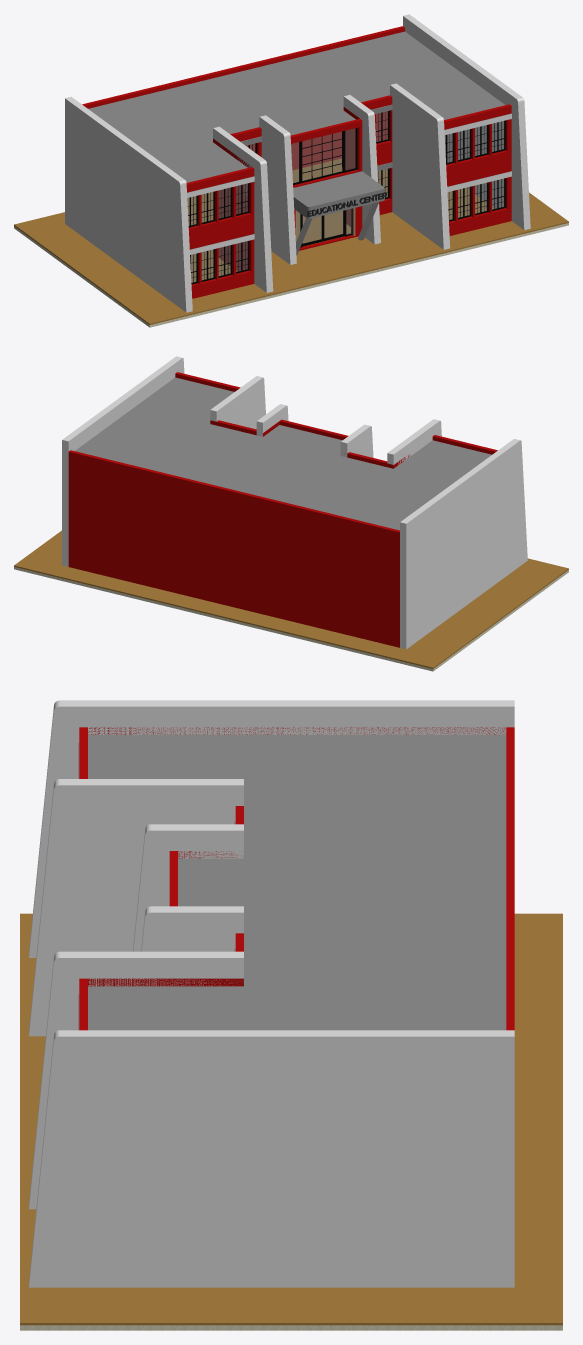
Rendered from school.fbx.
3 views of the same model, one above another, from view 1: azimuth 30°, elevation 25°; view 2: azimuth 150°, elevation 25°; view 3: azimuth 270°, elevation 25° (orthographic). The views are drawn at different scales.
Visible parts, largest first — view 1: МРФ-002 (×6), МРФ-001, ПЕР-001, СТН-002 (×6), СТН-008 (×2), ОК-001 (×7), МРФ-003, ОК-002 (×6), ОК-003 (×2), СТН-003 (×3), МРФ-004 (×4), ДВ-001 (+2 smaller); view 2: СТН-008 (×2), МРФ-001, МРФ-002 (×6), ПЕР-001, СТН-002 (×3); view 3: МРФ-002 (×6), МРФ-001, ПЕР-001, СТН-008, СТН-003, СТН-001.
Part boxes in pixels (box(x1,y1,x2,y2)): МРФ-002 (×6): box(65, 14, 530, 312); МРФ-001: box(88, 31, 505, 182); ПЕР-001: box(14, 158, 568, 327); СТН-002 (×6): box(186, 104, 511, 298); СТН-008 (×2): box(82, 26, 404, 169); ОК-001 (×7): box(201, 110, 389, 281); МРФ-003: box(293, 171, 384, 218); ОК-002 (×6): box(458, 120, 505, 219); ОК-003 (×2): box(301, 128, 357, 183); СТН-003 (×3): box(213, 108, 359, 271); МРФ-004 (×4): box(187, 113, 511, 254); ДВ-001: box(295, 208, 355, 247); СТН-008 (×2): box(68, 450, 399, 647); МРФ-001: box(75, 377, 491, 530); МРФ-002 (×6): box(62, 356, 527, 649); ПЕР-001: box(14, 530, 568, 671); СТН-002 (×3): box(175, 372, 497, 454); МРФ-002 (×6): box(29, 700, 514, 1287); МРФ-001: box(88, 735, 506, 1030); ПЕР-001: box(20, 913, 562, 1330); СТН-008: box(506, 727, 514, 1030); СТН-003: box(88, 978, 243, 986); СТН-001: box(88, 727, 505, 734).
Size of the model in its own units: 3424 by 1921 by 1010.
Materials: 11 (3 with a texture image).
